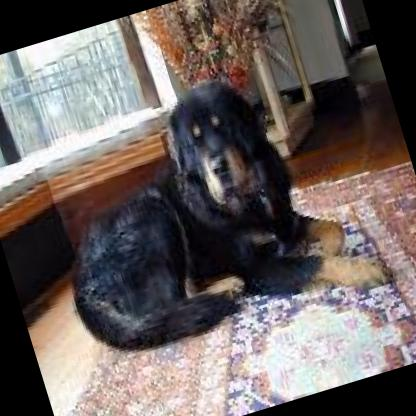Tibetan_mastiff: (14, 36, 400, 374)
